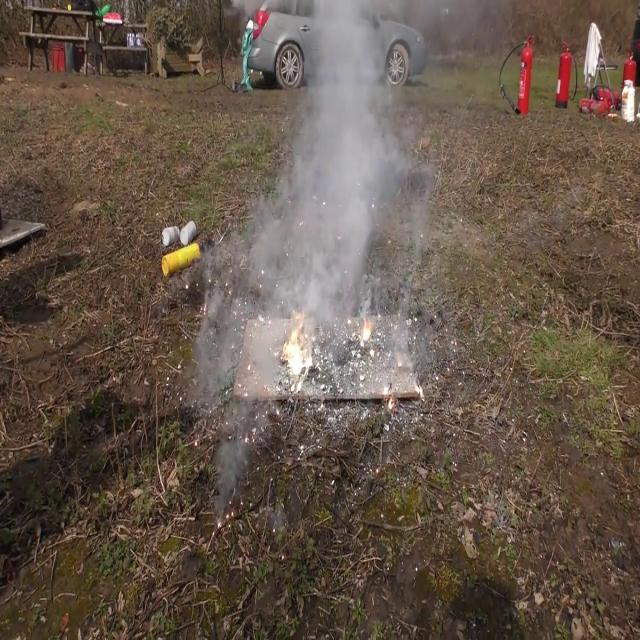Fire: (277, 314, 315, 388), (357, 312, 376, 348)
Smoke: (233, 0, 429, 340)
